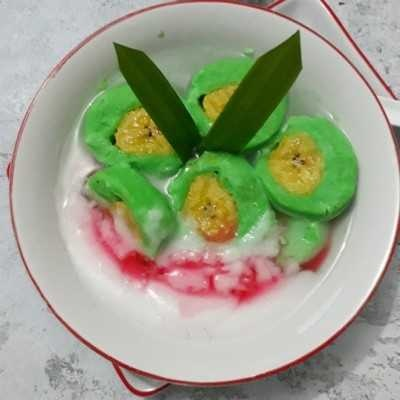pisang_ijo: (264, 120, 371, 235)
